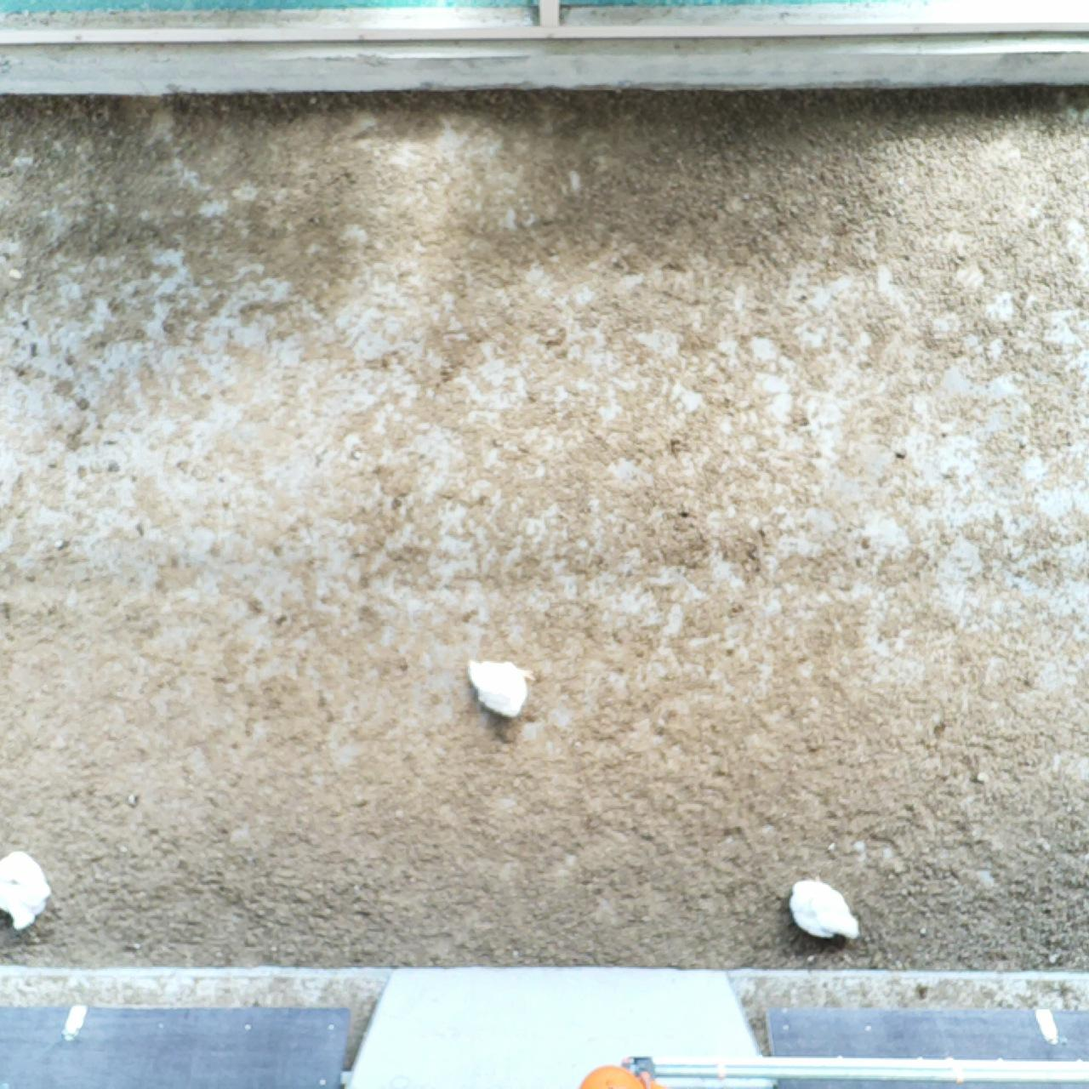chicken: (784, 869, 868, 947), (461, 655, 540, 725), (0, 848, 56, 934)
